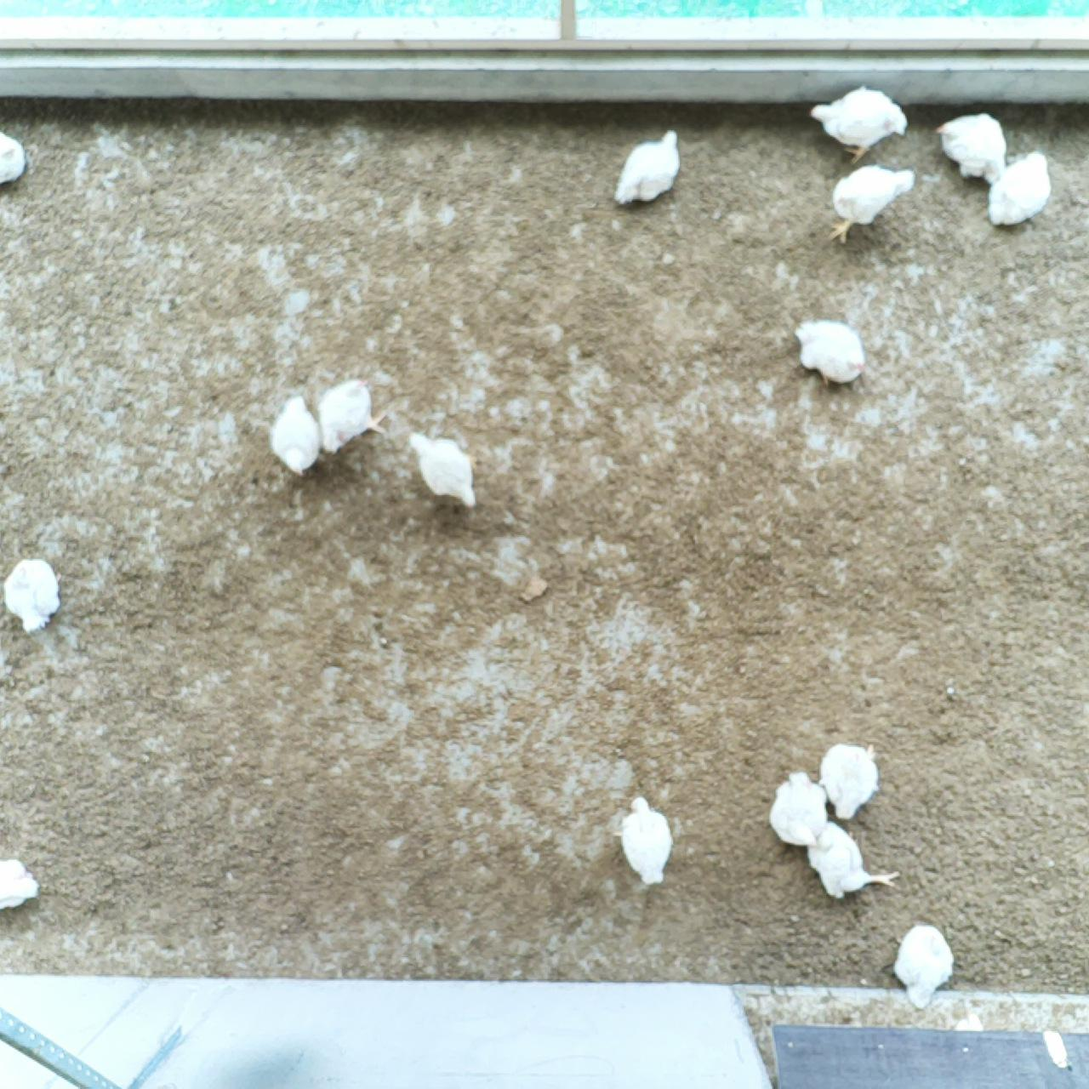chicken: (805, 82, 911, 168), (807, 817, 905, 905), (825, 161, 921, 248), (610, 124, 684, 217), (607, 792, 676, 889), (318, 375, 394, 462), (406, 429, 483, 514), (791, 313, 873, 391), (891, 921, 958, 1013), (934, 105, 1009, 185), (982, 151, 1055, 232), (817, 739, 882, 823), (767, 767, 832, 850), (2, 555, 67, 635), (265, 394, 323, 481), (0, 855, 42, 915), (0, 128, 30, 192)
